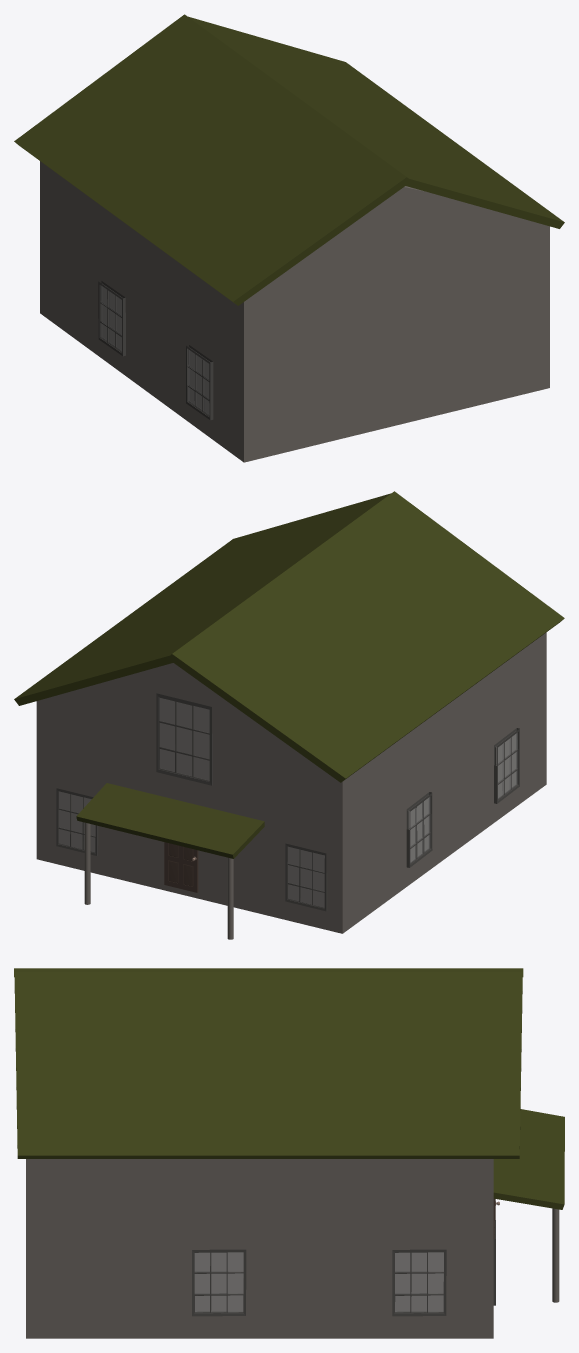
File: harong1-re.fbx
3 views of the same model, one above another, from view 1: azimuth 30°, elevation 25°; view 2: azimuth 150°, elevation 25°; view 3: azimuth 270°, elevation 25° (orthographic). The views are drawn at different scales.
Visible parts, largest first — view 1: pCube24; view 2: pCube24; view 3: pCube24.
Part boxes in pixels (x1,y1,x2,y2): pCube24: (14,14,564,462); pCube24: (14,491,564,939); pCube24: (14,968,564,1338).
Size of the model in its own units: 14.08 by 10.4 by 17.68.
